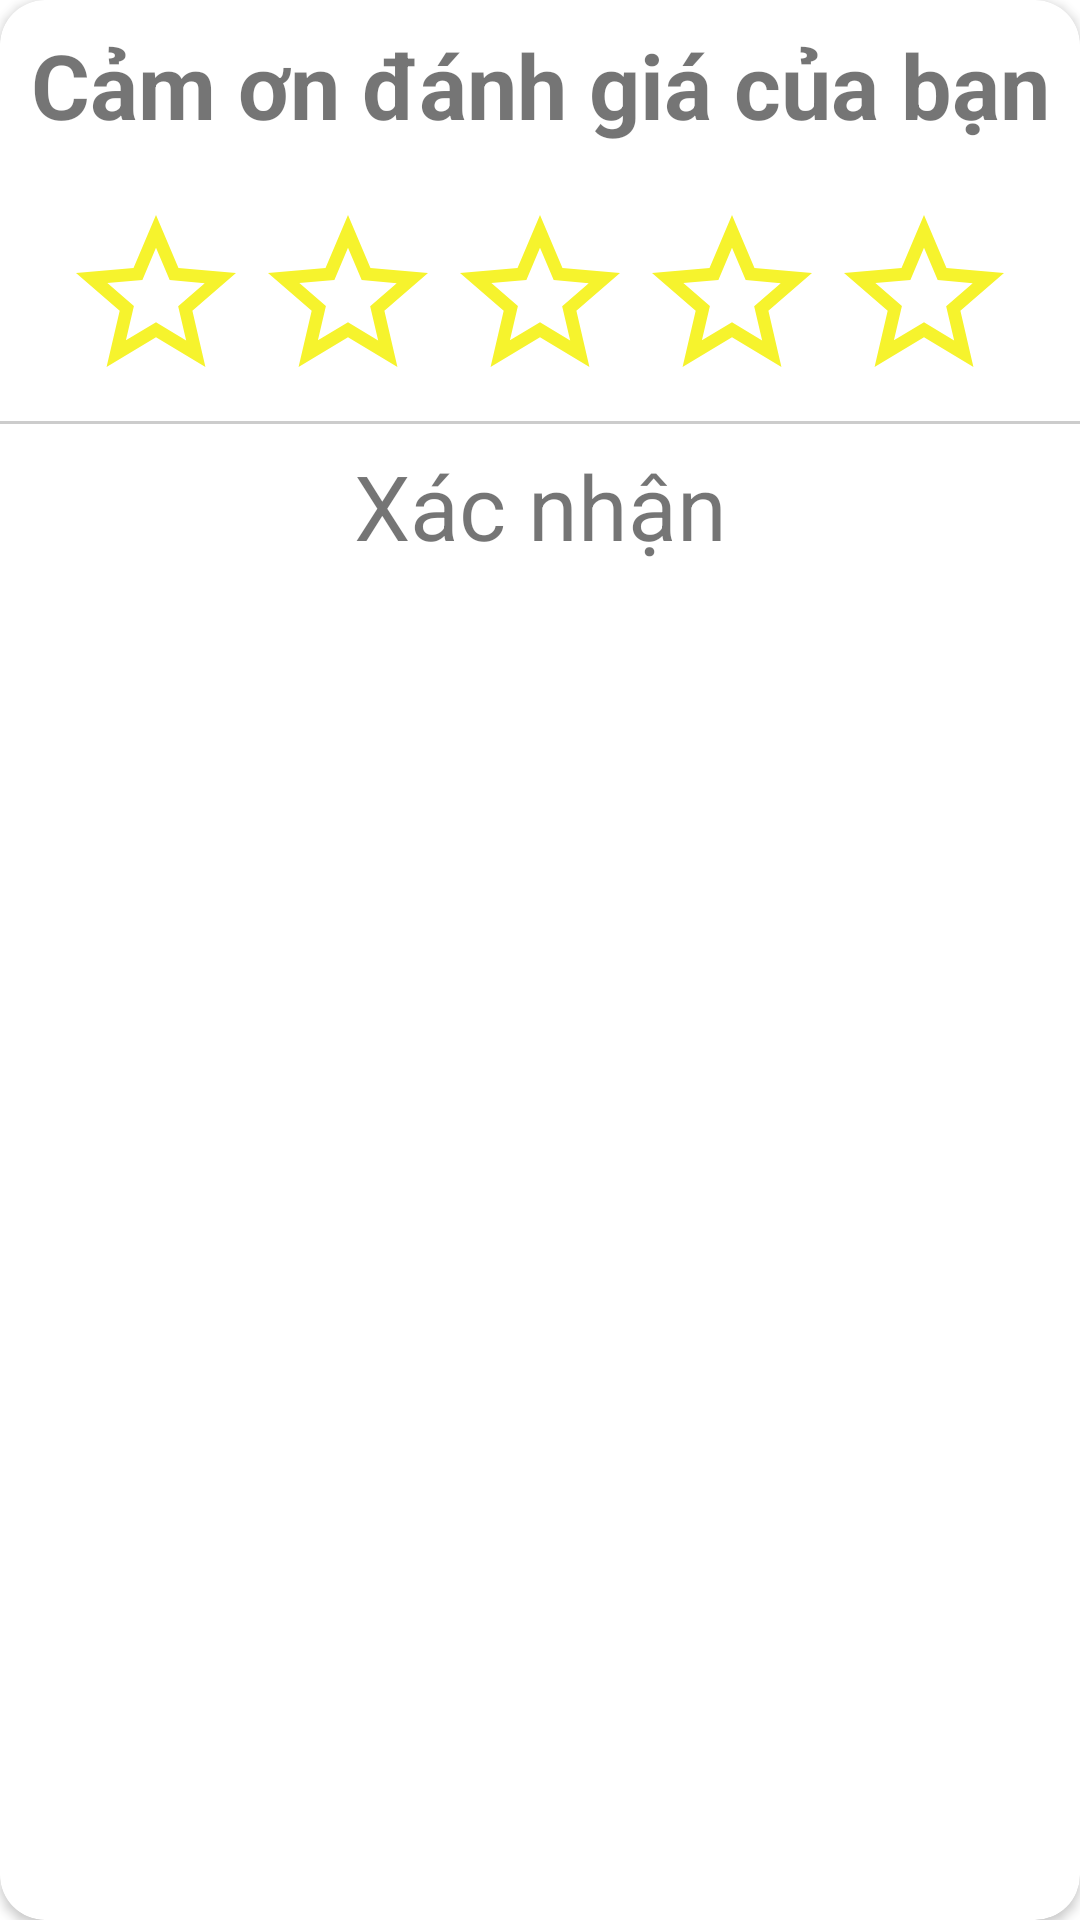

Icons on this 1080px×1920px Android screen, each with its box as (left=x1, top=y1, right=x2, bottom=y2):
star: (left=76, top=215, right=236, bottom=367), (left=268, top=215, right=428, bottom=367), (left=460, top=215, right=620, bottom=367), (left=652, top=215, right=812, bottom=367), (left=844, top=215, right=1004, bottom=367)
